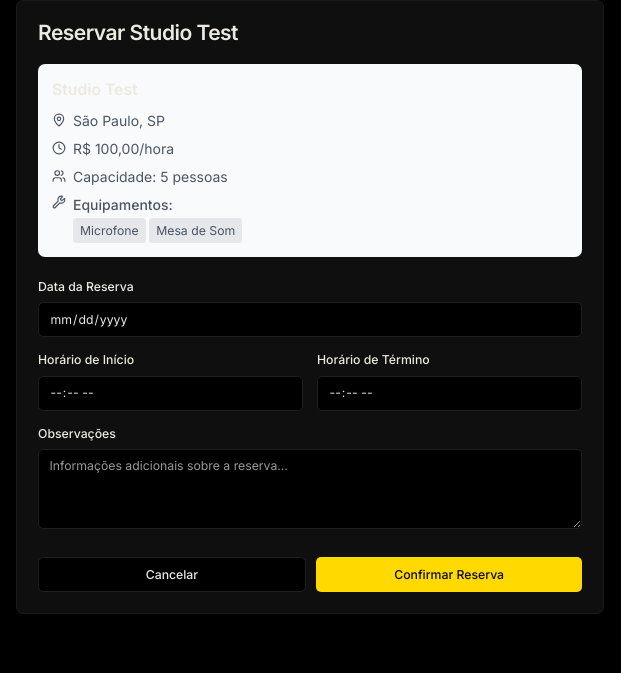
Test: BookingForm › deve limpar erros ao corrigir campos
// Submete formulário vazio para gerar erros
Click the button "Confirmar Reserva".
click(449, 574)  # box [316,557,582,592]
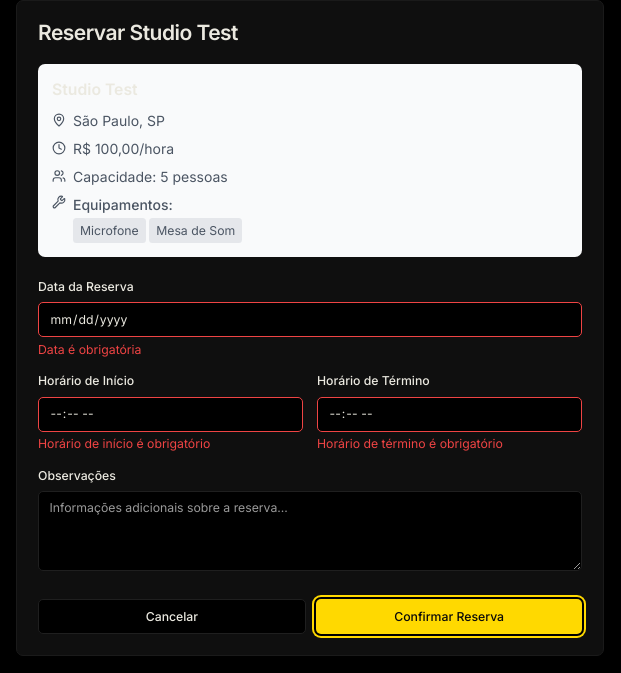
Expected: the text "Data é obrigatória" is shown, [38,342,142,356]
// Corrige o campo de data
Type "2024-01-20" into the date field labelled "Data da Reserva".
click(310, 320); type("2024-01-20")  # box [38,302,582,337]
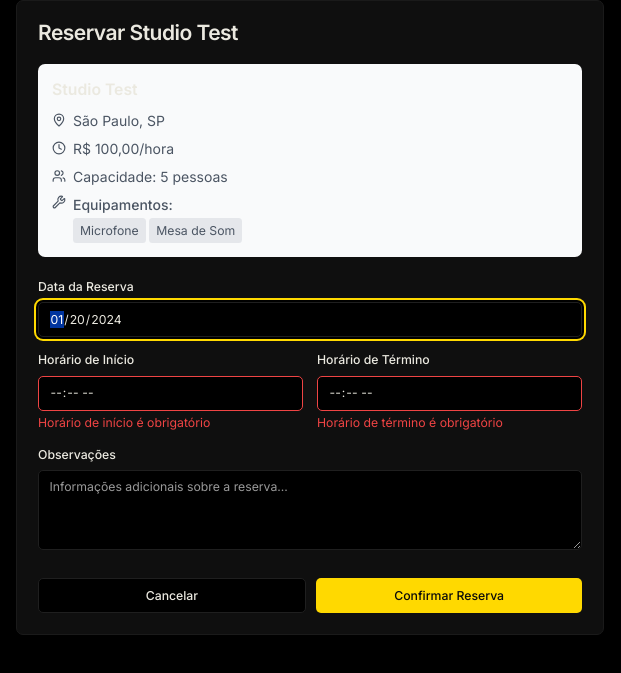
Expected: the text "Data é obrigatória" is gone
